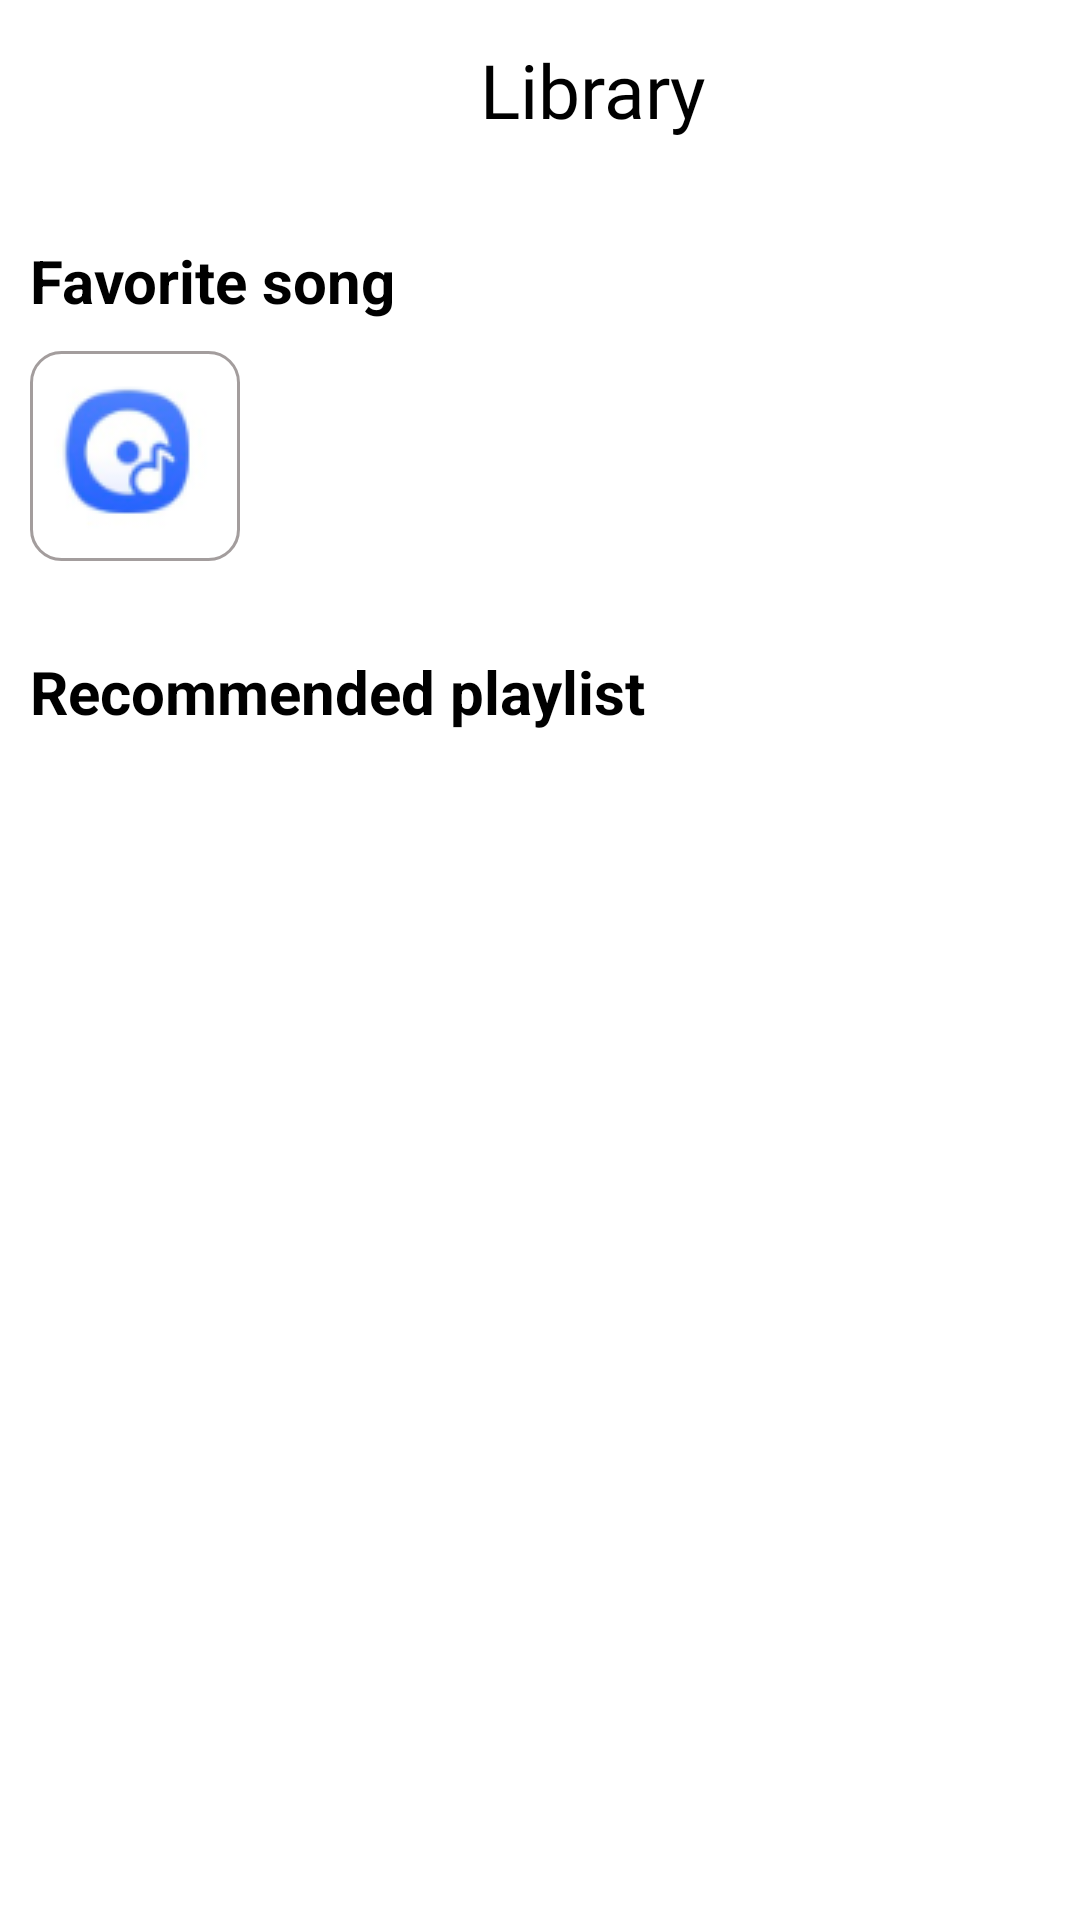

Icons on this 1080 x 1920 Android screen, each with its box as [x1, y1, x2, y2]:
album: [64, 389, 190, 514]
